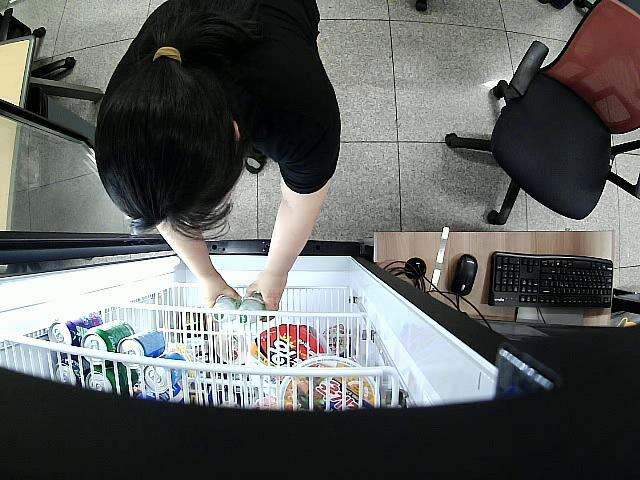00_hand: (246, 281, 284, 326), (207, 279, 234, 310)
18_trevi: (236, 294, 266, 325), (213, 295, 243, 323)
